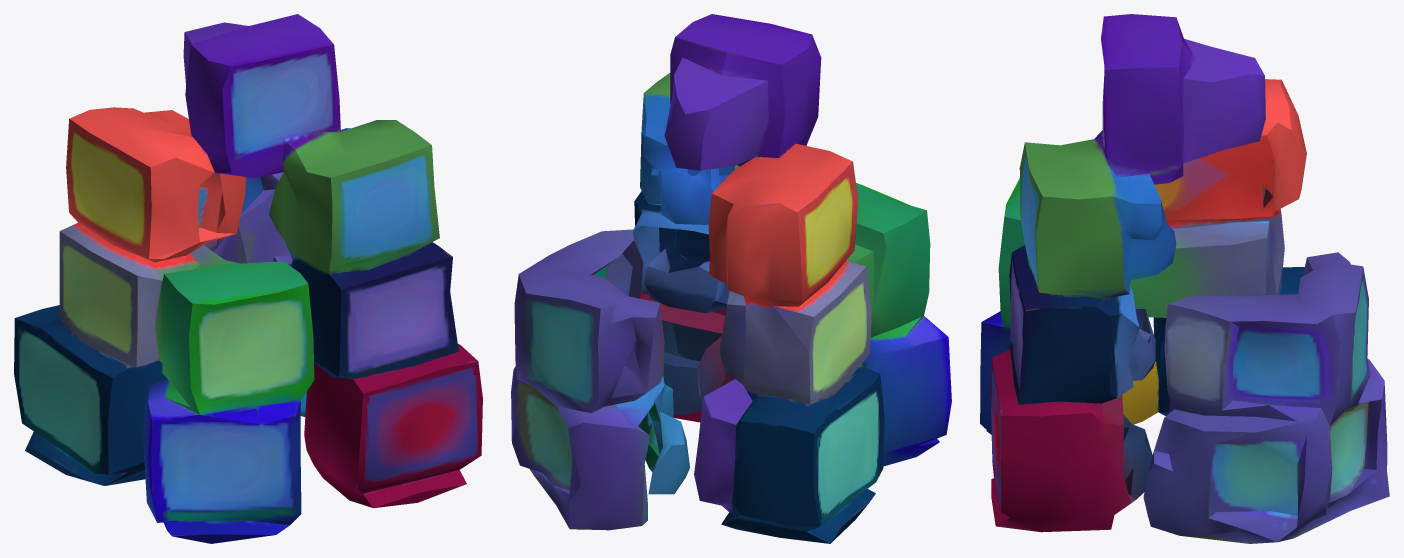
File: crt-monitor-stack.glb
3 views of the same model, side by side, from view 1: azimuth 30°, elevation 25°; view 2: azimuth 150°, elevation 25°; view 3: azimuth 270°, elevation 25° (orthographic). The views are drawn at different scales.
Parts seen in each view (by area): view 1: geometry_0; view 2: geometry_0; view 3: geometry_0.
Boxes of the visible parts, x1,y1,x2,y2 form: geometry_0: (14, 14, 482, 543); geometry_0: (511, 14, 951, 543); geometry_0: (980, 14, 1389, 543).
Size of the model in its own units: 0.7809 by 1 by 0.8589.
Materials: 1 (1 with a texture image).
